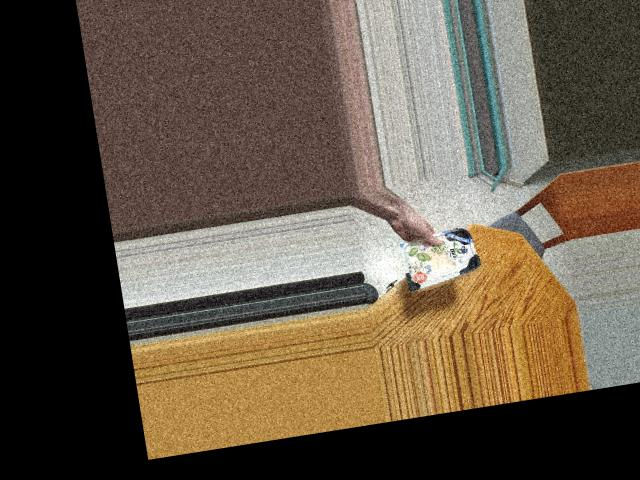cheese: (407, 224, 484, 286)
